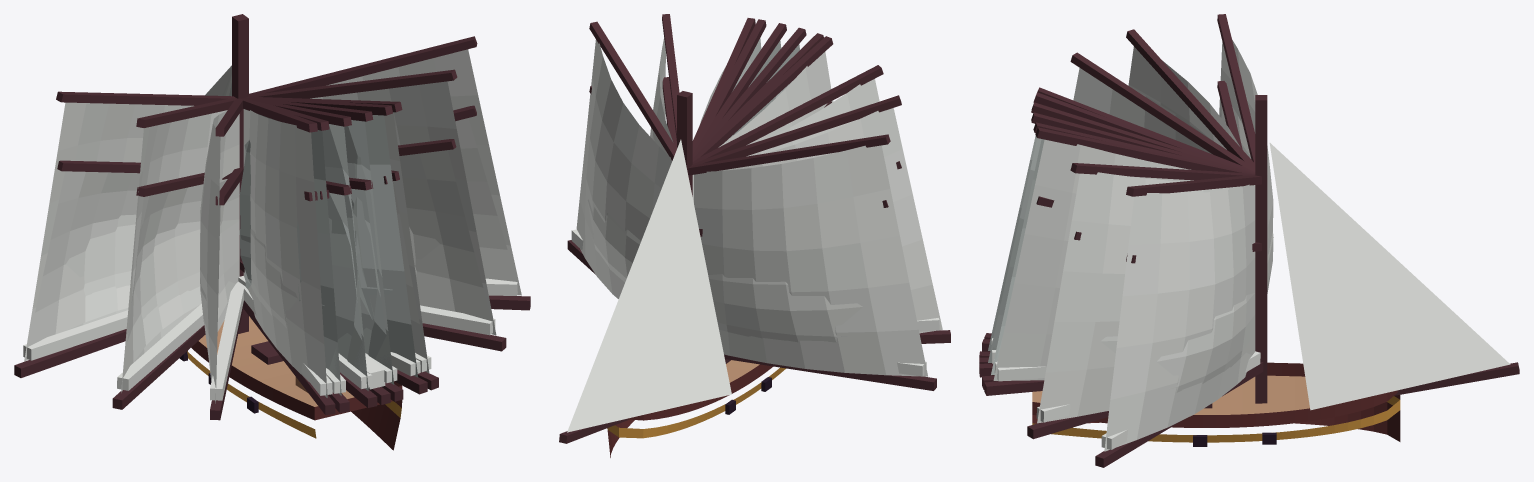
File: ship.sloop.glb
The picture shows the model from 3 angles, left to right: view 1: azimuth 30°, elevation 25°; view 2: azimuth 150°, elevation 25°; view 3: azimuth 270°, elevation 25°; orthographic projection. The views are drawn at different scales.
Parts seen in each view (by area): view 1: full_close_s_main, half_run_main, full_run_main, full_broad_s_main, half_beam_p_main, full_irons_p1_main, full_beam_s_main, full_beam_p_main, half_broad_s_main, hull, full_irons_s0_main, full_irons_s1_main (+36 smaller); view 2: full_run_main, full_run_jib, full_broad_p_main, half_run_main, full_broad_s_main, full_close_s_main, full_broad_s_gaff, full_beam_s_gaff, full_run_gaff, half_broad_p_main, hull, full_beam_s_main (+14 smaller); view 3: full_broad_p_jib, full_broad_p_main, full_beam_p_main, full_close_p_main, hull, half_broad_p_main, mast, bulwark, full_beam_s_main, full_broad_s_main, full_beam_s_gaff, full_broad_s_gaff (+20 smaller).
Part boxes in pixels (bbox=[...]): full_close_s_main: bbox=[243, 109, 327, 397]; half_run_main: bbox=[28, 171, 139, 346]; full_run_main: bbox=[24, 102, 193, 361]; full_broad_s_main: bbox=[121, 110, 227, 392]; half_beam_p_main: bbox=[399, 150, 491, 321]; full_irons_p1_main: bbox=[353, 115, 418, 377]; full_beam_s_main: bbox=[200, 111, 239, 403]; full_beam_p_main: bbox=[310, 81, 496, 335]; half_broad_s_main: bbox=[123, 184, 203, 377]; hull: bbox=[187, 316, 402, 450]; full_irons_s0_main: bbox=[322, 124, 368, 390]; full_irons_s1_main: bbox=[239, 114, 341, 395]; full_run_main: bbox=[694, 145, 927, 376]; full_run_jib: bbox=[567, 139, 731, 432]; full_broad_p_main: bbox=[576, 40, 672, 298]; half_run_main: bbox=[708, 274, 862, 342]; full_broad_s_main: bbox=[719, 108, 942, 333]; full_close_s_main: bbox=[692, 52, 833, 201]; full_broad_s_gaff: bbox=[691, 95, 901, 165]; full_beam_s_gaff: bbox=[692, 65, 883, 163]; full_run_gaff: bbox=[688, 134, 890, 175]; half_broad_p_main: bbox=[587, 199, 640, 282]; hull: bbox=[607, 360, 785, 457]; full_beam_s_main: bbox=[693, 79, 879, 202]; full_broad_p_jib: bbox=[1269, 143, 1510, 410]; full_broad_p_main: bbox=[1104, 184, 1255, 451]; full_beam_p_main: bbox=[1037, 172, 1242, 423]; full_close_p_main: bbox=[993, 139, 1193, 380]; hull: bbox=[1032, 375, 1400, 442]; half_broad_p_main: bbox=[1157, 293, 1255, 392]; mast: bbox=[1255, 95, 1267, 403]; bulwark: bbox=[1032, 362, 1397, 427]; full_beam_s_main: bbox=[1073, 68, 1212, 154]; full_broad_s_main: bbox=[1128, 46, 1239, 149]; full_beam_s_gaff: bbox=[1070, 52, 1255, 171]; full_broad_s_gaff: bbox=[1126, 29, 1255, 169].
Bounding box in the file's own units: 2.51 × 1.86 × 2.64.
